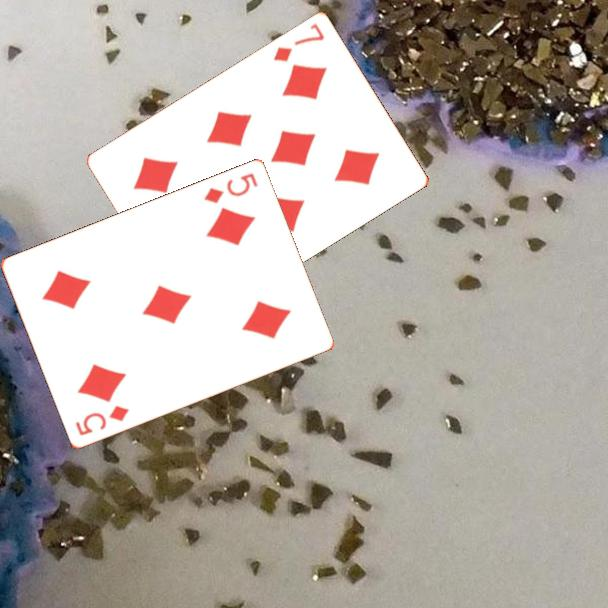d05: (72, 402, 132, 439), (200, 170, 260, 207)
d07: (270, 19, 327, 64)
